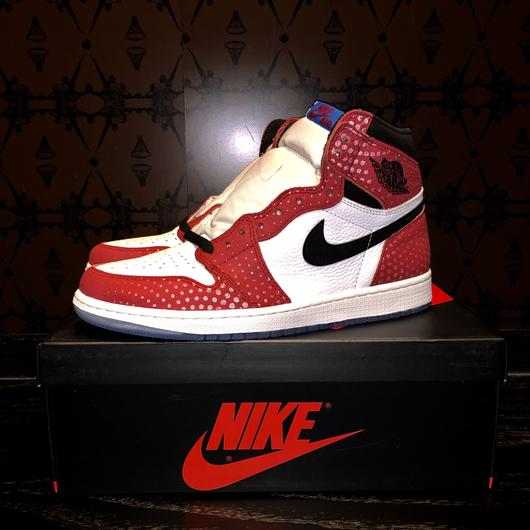Air Jordan 1 Spiderman: (66, 89, 465, 345)
